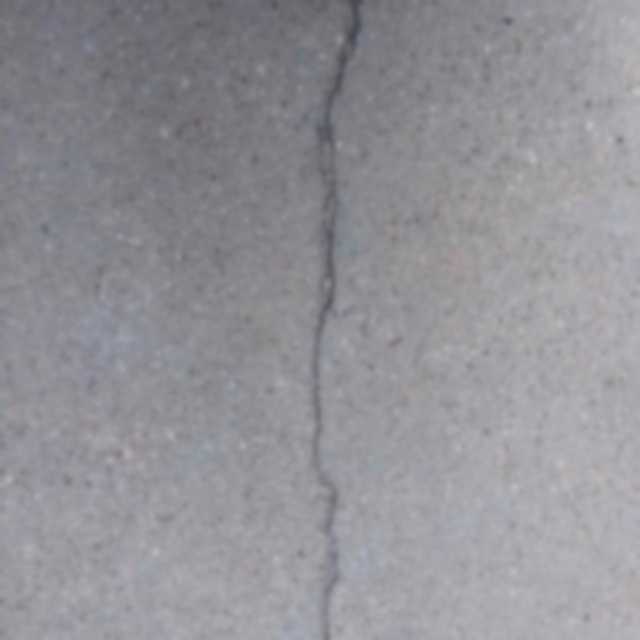SurfaceCrack: (282, 0, 416, 638)
